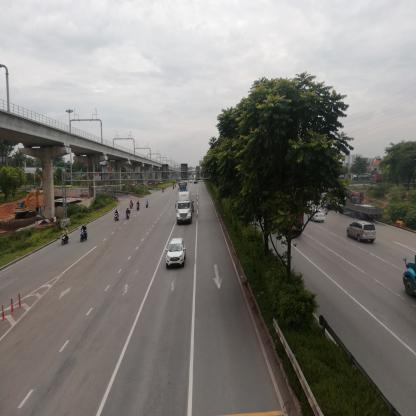bus: (181, 181, 187, 192)
car: (348, 219, 376, 244), (164, 238, 184, 268), (309, 209, 326, 223)
container: (179, 192, 193, 225)
motorbike: (79, 227, 89, 249), (62, 231, 70, 245), (126, 208, 132, 221), (115, 211, 120, 222), (137, 201, 141, 212), (131, 201, 135, 208), (147, 202, 150, 209)
